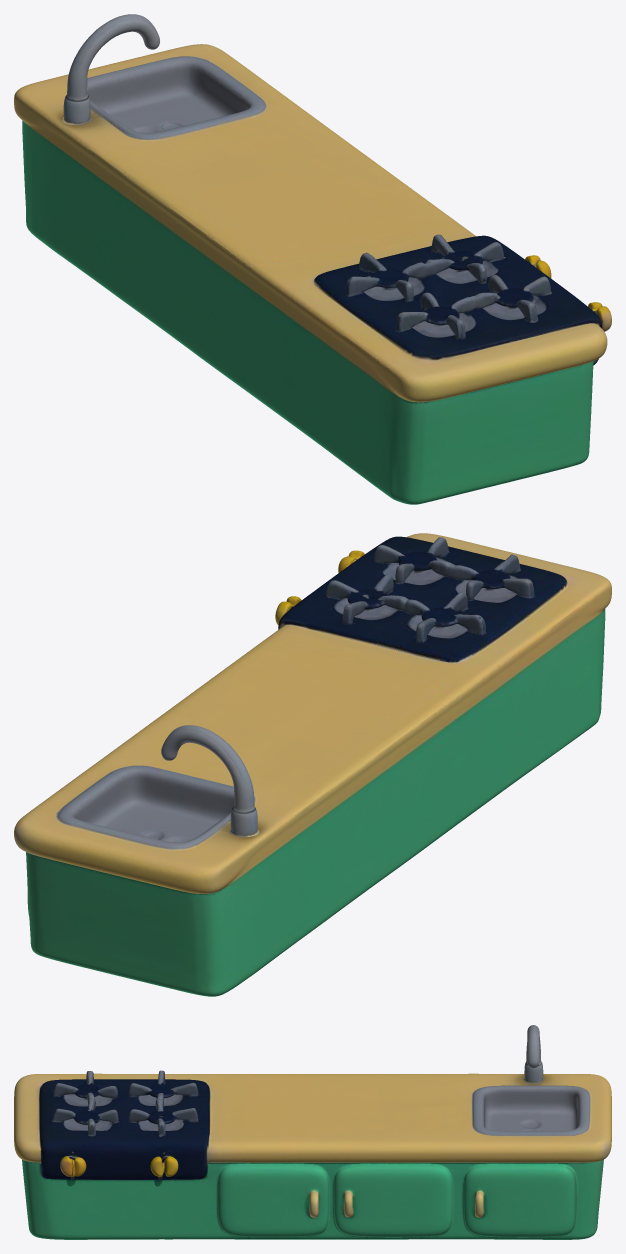
The model's file is BuiltinCounter.glb.
3 renders of one model, top to bottom at view 1: azimuth 30°, elevation 25°; view 2: azimuth 150°, elevation 25°; view 3: azimuth 270°, elevation 25°, orthographic. The views are drawn at different scales.
Visible parts, largest first — view 1: tripo_node_0ae293c5-a46b-486d-b1bf-0dcfb90539eb; view 2: tripo_node_0ae293c5-a46b-486d-b1bf-0dcfb90539eb; view 3: tripo_node_0ae293c5-a46b-486d-b1bf-0dcfb90539eb.
Part boxes in pixels (box(x1,y1,x2,y2)): tripo_node_0ae293c5-a46b-486d-b1bf-0dcfb90539eb: box(14, 14, 611, 504); tripo_node_0ae293c5-a46b-486d-b1bf-0dcfb90539eb: box(14, 533, 611, 996); tripo_node_0ae293c5-a46b-486d-b1bf-0dcfb90539eb: box(14, 1025, 611, 1239).
Size of the model in its own units: 0.3328 by 0.3069 by 1.
Materials: 1 (1 with a texture image).
